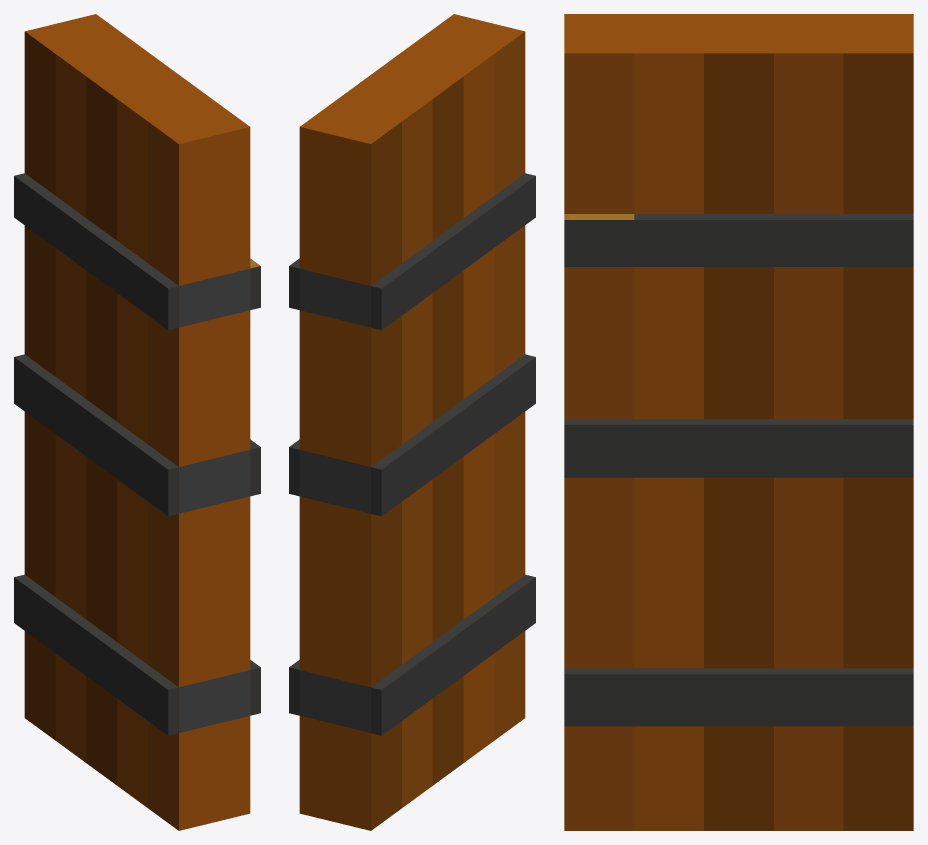
Rendered from doors.fbx.
The picture shows the model from 3 angles, left to right: view 1: azimuth 30°, elevation 25°; view 2: azimuth 150°, elevation 25°; view 3: azimuth 270°, elevation 25°; orthographic projection. The views are drawn at different scales.
Parts seen in each view (by area): view 1: Cube.002; view 2: Cube.002; view 3: Cube.002.
Part boxes in pixels (x1=…): Cube.002: x1=14, y1=14, x2=260, y2=830; Cube.002: x1=289, y1=14, x2=535, y2=830; Cube.002: x1=564, y1=14, x2=913, y2=830.
Size of the model in its own units: 69.5 by 492 by 200.
